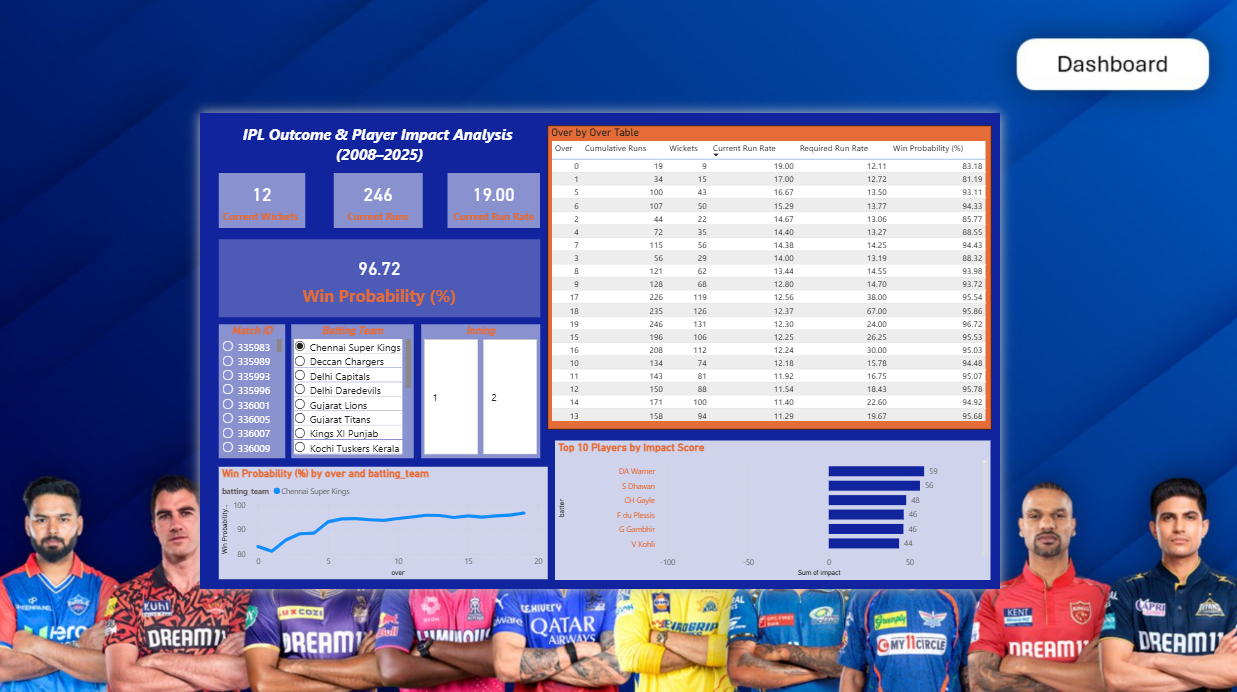

What the dashboard file says about the page in this screenshot:
{"tool":"powerbi","page":{"name":"Page 1","canvas":[1280,761],"ordinal":0},"visuals":[{"type":"lineChart","fields":{"Category":["Match_State.over"],"Y":["Match_State.Win Probability (%)"],"Series":["Match_State.batting_team"]},"box":[30,566,526,180],"z":0},{"type":"card","fields":{"Values":["Max(Match_State.cum_runs)"]},"box":[213,95,142,88],"z":1000},{"type":"card","fields":{"Values":["Match_State.Current Wickets"]},"box":[30,95,138,88],"z":2000},{"type":"card","fields":{"Values":["Max(Match_State.current_run_rate)"]},"box":[396,96,148,88],"z":3000},{"type":"card","fields":{"Values":["Match_State.Win Probability (%)"]},"box":[30,201,514,125],"z":4000},{"type":"clusteredBarChart","title":"Top 10 Players by Impact Score","fields":{"Category":["player_impact_scores.batter"],"Y":["Sum(player_impact_scores.impact)"]},"box":[568.3,523.3,696.7,223.3],"z":5000},{"type":"tableEx","title":"Over by Over Table","fields":{"Values":["Match_State.over","Max(Match_State.cum_runs)","Max(Match_State.cum_wickets)","Max(Match_State.current_run_rate)","Max(Match_State.required_run_rate)","Match_State.Win Probability (%)"]},"box":[555,20,710,486.7],"z":6000},{"type":"listSlicer","fields":{"Values":["Match_State.match_id"]},"box":[30,338,106,214],"z":7000},{"type":"listSlicer","title":"Batting Team","fields":{"Values":["Match_State.batting_team"]},"box":[146,338,196,214],"z":8000},{"type":"advancedSlicerVisual","fields":{"Values":["Match_State.inning"]},"box":[354,338,190,214],"z":9000},{"type":"textbox","box":[30,11.7,515,83.3],"z":10000}]}

Visuals, with their boxes on the page's 1280x761 design canvas (x1, y1, x2, y2). These are canvas units, not pixel positions in the 1237x692 screenshot, which may show the page scaled, cropped or inside an application window:
lineChart - Match_State.over x Match_State.Win Probability (%): 30:566:556:746
card - Max(Match_State.cum_runs): 213:95:355:183
card - Match_State.Current Wickets: 30:95:168:183
card - Max(Match_State.current_run_rate): 396:96:544:184
card - Match_State.Win Probability (%): 30:201:544:326
"Top 10 Players by Impact Score" clusteredBarChart: 568:523:1265:747
"Over by Over Table" tableEx: 555:20:1265:507
listSlicer - Match_State.match_id: 30:338:136:552
"Batting Team" listSlicer: 146:338:342:552
advancedSlicerVisual - Match_State.inning: 354:338:544:552
textbox: 30:12:545:95
